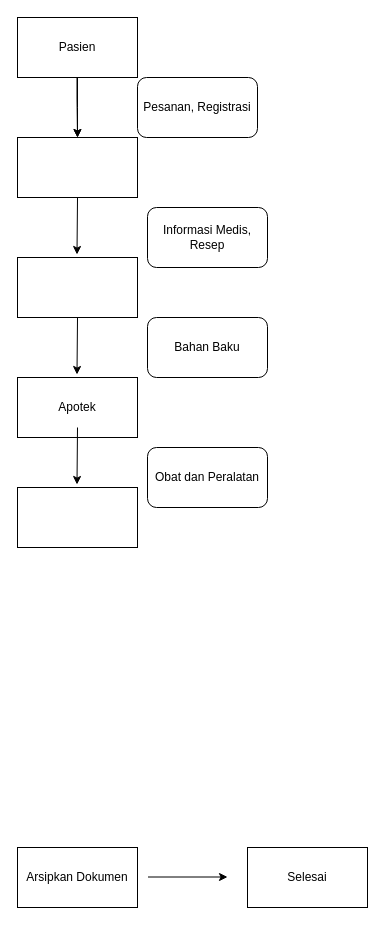
The diagram is 385 pixels wide and 925 high, and some of its shapes have lost their labels. The centre of each missing label's shape, as x and y in pixels:
"Dokter" goes at point 77,517.
"Petugas Administrasi" goes at point 77,287.
"Sistem Rumah Sakit" goes at point 77,167.
